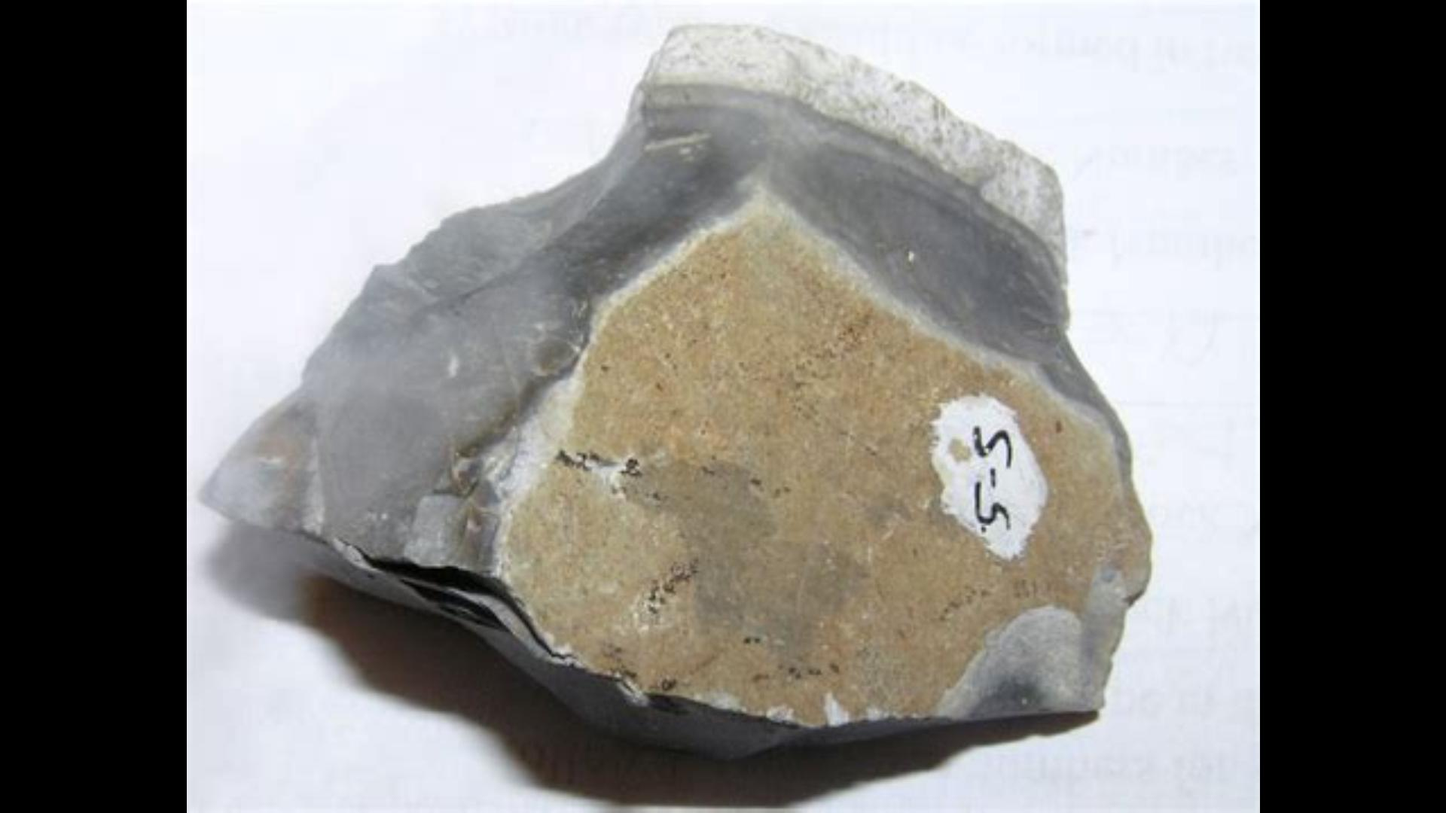rock: (202, 27, 1149, 754)
